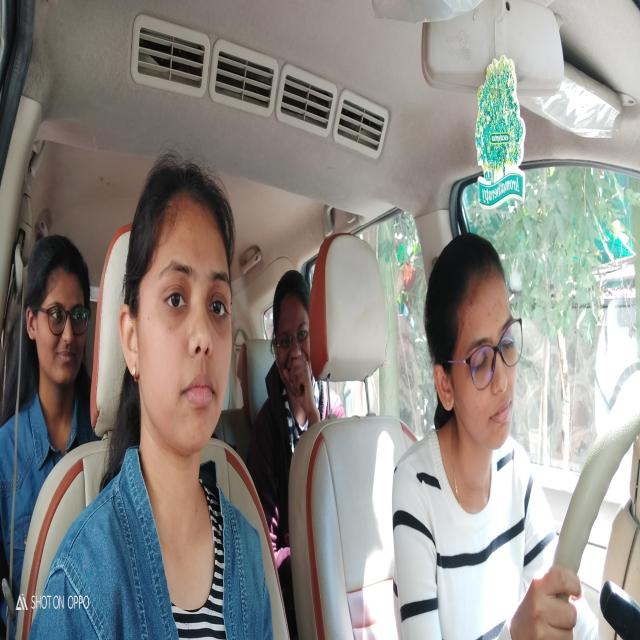drowsy: (424, 224, 525, 469)
person: (120, 150, 240, 472), (22, 228, 95, 398), (272, 268, 318, 422)
